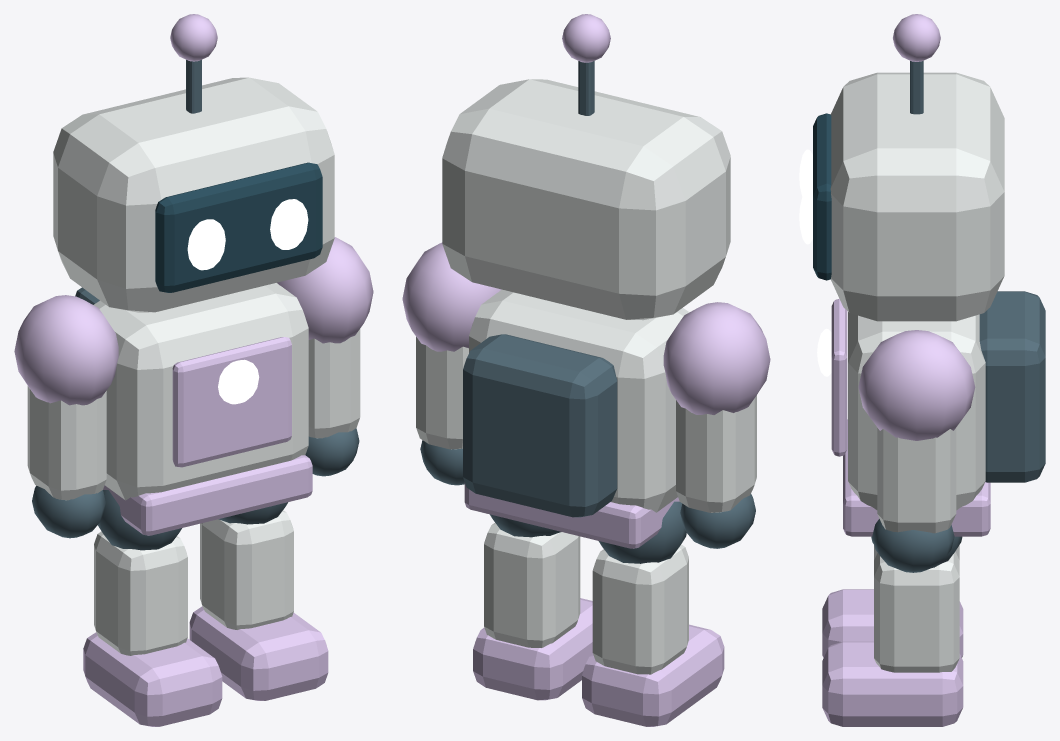
Rendered from iris.glb.
3 renders of one model, left to right at view 1: azimuth 30°, elevation 25°; view 2: azimuth 150°, elevation 25°; view 3: azimuth 270°, elevation 25°, orthographic. The views are drawn at different scales.
Visible parts, largest first — view 1: Head, Torso, Visor, Chest plate, Leg.009, Leg, Boot.009, Shoulder.009, Boot, Belt, Arm.009, Shoulder (+10 smaller); view 2: Head, Pack, Torso, Leg.009, Leg, Shoulder.009, Boot.009, Arm.009, Boot, Shoulder, Belt, Arm (+6 smaller); view 3: Head, Pack, Shoulder, Torso, Boot, Leg, Arm, Visor, Boot.009, Belt, Hand, Chest plate (+5 smaller).
Part boxes in pixels (<box>): Head: <box>53,77,334,312</box>; Torso: <box>94,283,308,500</box>; Visor: <box>155,162,322,292</box>; Chest plate: <box>172,337,291,467</box>; Leg.009: <box>94,531,187,655</box>; Leg: <box>200,510,293,629</box>; Boot.009: <box>83,632,222,726</box>; Shoulder.009: <box>14,295,118,405</box>; Boot: <box>189,606,328,700</box>; Belt: <box>103,455,312,535</box>; Arm.009: <box>27,386,106,500</box>; Shoulder: <box>277,237,373,343</box>; Head: <box>442,79,730,320</box>; Pack: <box>463,334,617,517</box>; Torso: <box>469,289,689,512</box>; Leg.009: <box>592,544,688,674</box>; Leg: <box>484,523,580,647</box>; Shoulder.009: <box>663,302,770,414</box>; Boot.009: <box>582,624,724,726</box>; Arm.009: <box>676,395,756,512</box>; Boot: <box>473,598,592,700</box>; Shoulder: <box>402,242,501,351</box>; Belt: <box>464,482,679,548</box>; Arm: <box>416,337,468,449</box>; Head: <box>830,72,1004,321</box>; Pack: <box>979,291,1045,482</box>; Shoulder: <box>858,330,975,440</box>; Torso: <box>848,312,985,510</box>; Boot: <box>822,641,963,726</box>; Leg: <box>874,551,959,672</box>; Arm: <box>877,428,956,533</box>; Visor: <box>813,113,831,280</box>; Boot.009: <box>822,589,963,657</box>; Belt: <box>843,419,990,536</box>; Hand: <box>872,519,954,572</box>; Chest plate: <box>831,298,847,456</box>.
Size of the model in its own units: 1.16 by 2.16 by 0.717.
